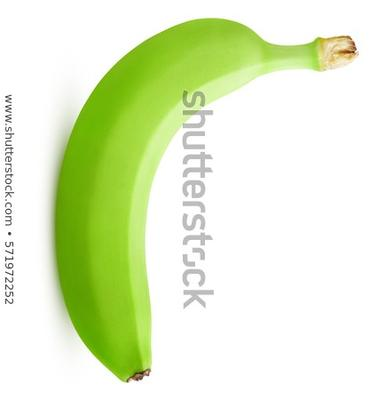banana: (0, 0, 377, 400)
